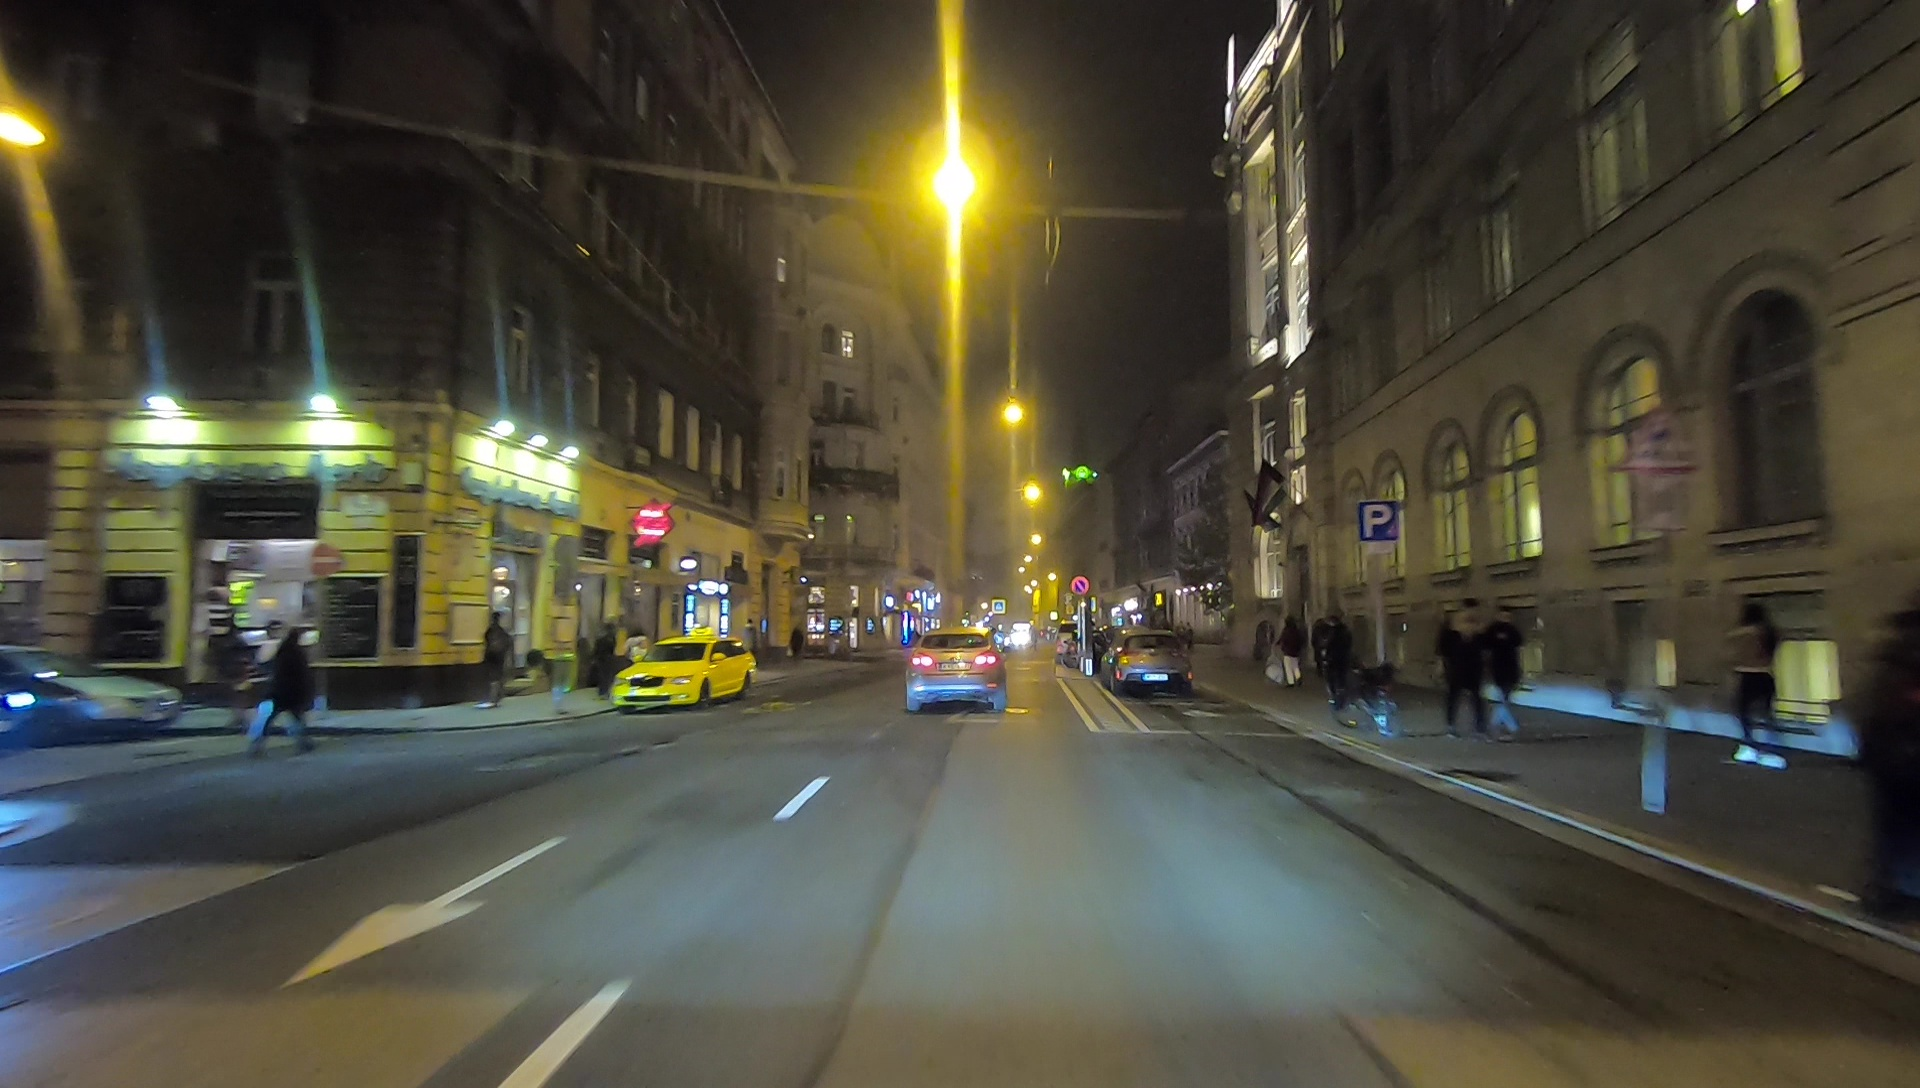person: (1730, 597, 1797, 773), (251, 632, 323, 758), (1488, 608, 1526, 732), (1447, 608, 1482, 732), (210, 626, 254, 724), (1317, 611, 1349, 693), (480, 611, 508, 699), (591, 617, 615, 687), (1286, 619, 1302, 684)
